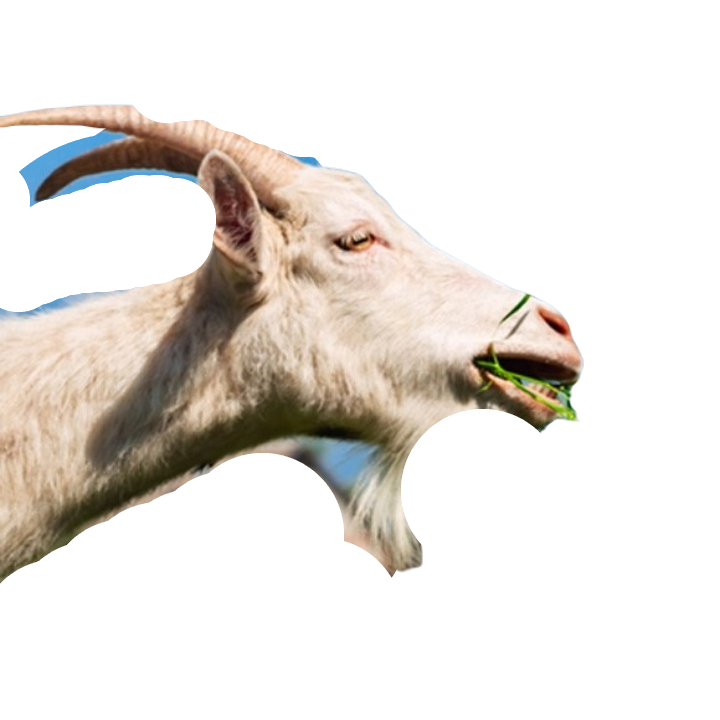Goat: (0, 101, 584, 594)
